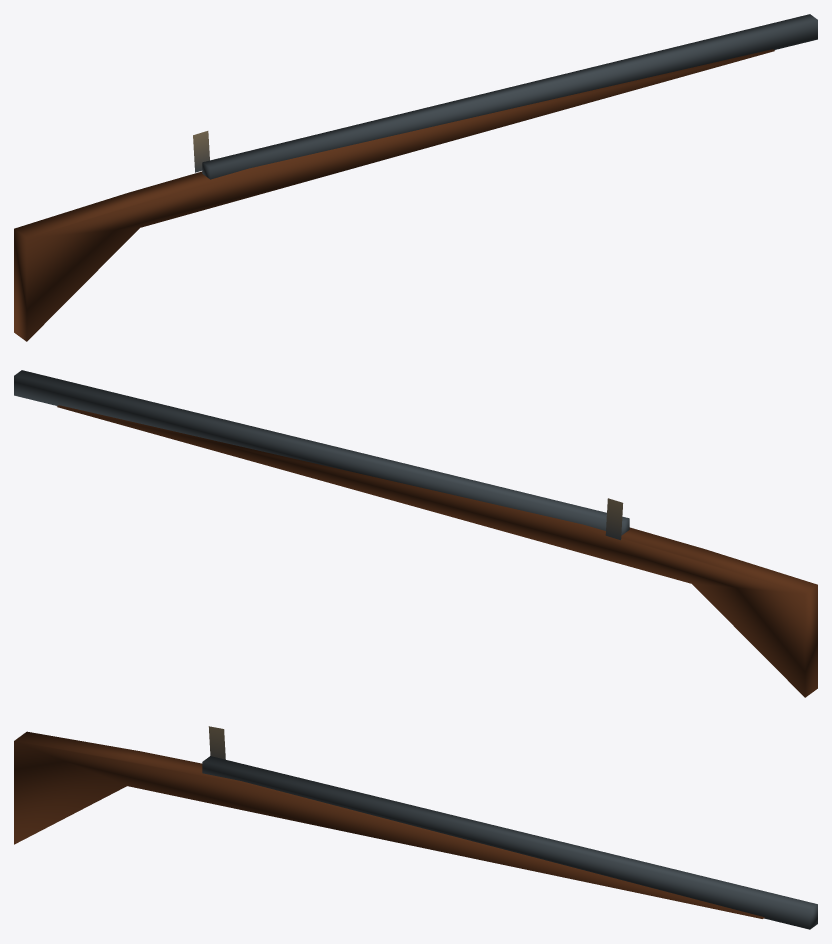
File: matchlock_arquebus_lod2.glb
The picture shows the model from 3 angles, top to bottom: view 1: azimuth 30°, elevation 25°; view 2: azimuth 150°, elevation 25°; view 3: azimuth 330°, elevation 25°; orthographic projection.
Parts seen in each view (by area): view 1: WeaponMesh.007; view 2: WeaponMesh.007; view 3: WeaponMesh.007.
Part boxes in pixels (<box>): WeaponMesh.007: <box>14,14,817,341</box>; WeaponMesh.007: <box>14,370,817,697</box>; WeaponMesh.007: <box>14,726,817,929</box>.
Size of the model in its own units: 1.86 by 0.3421 by 0.058.
